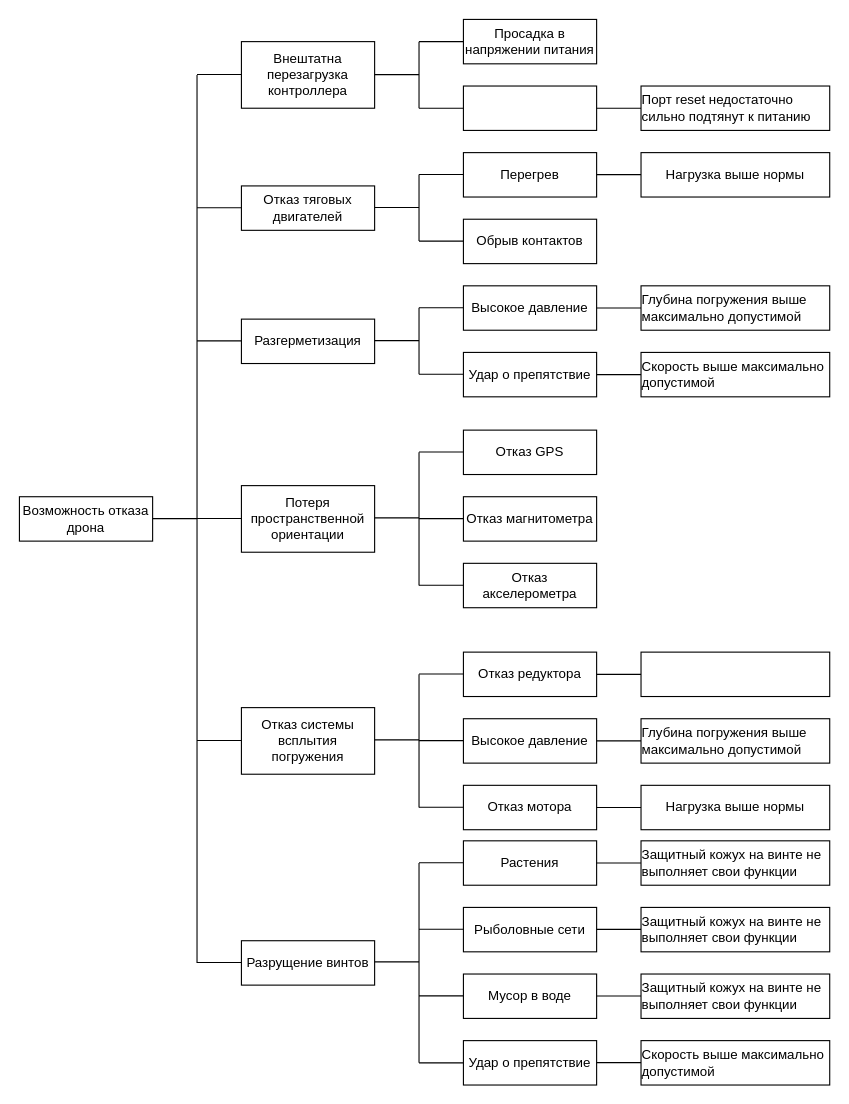
Image size: 849x1104. Some labels were removed from this diagram. The centre of each missing label's shape, as x and y in pixels:
Выход нагрузки за пределы допустимой: point 735,674
Помехи от работы моторов: point 529,107
